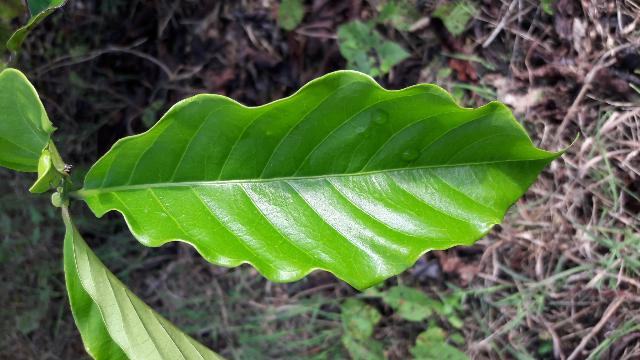healthy: (79, 72, 560, 290)
